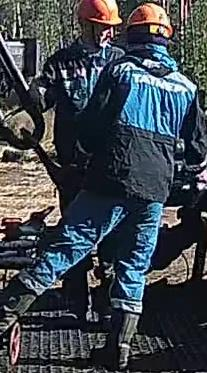gloves: (28, 80, 48, 114)
helmet: (126, 2, 173, 38), (75, 0, 122, 26)
vest: (84, 50, 197, 201), (51, 42, 123, 169)
